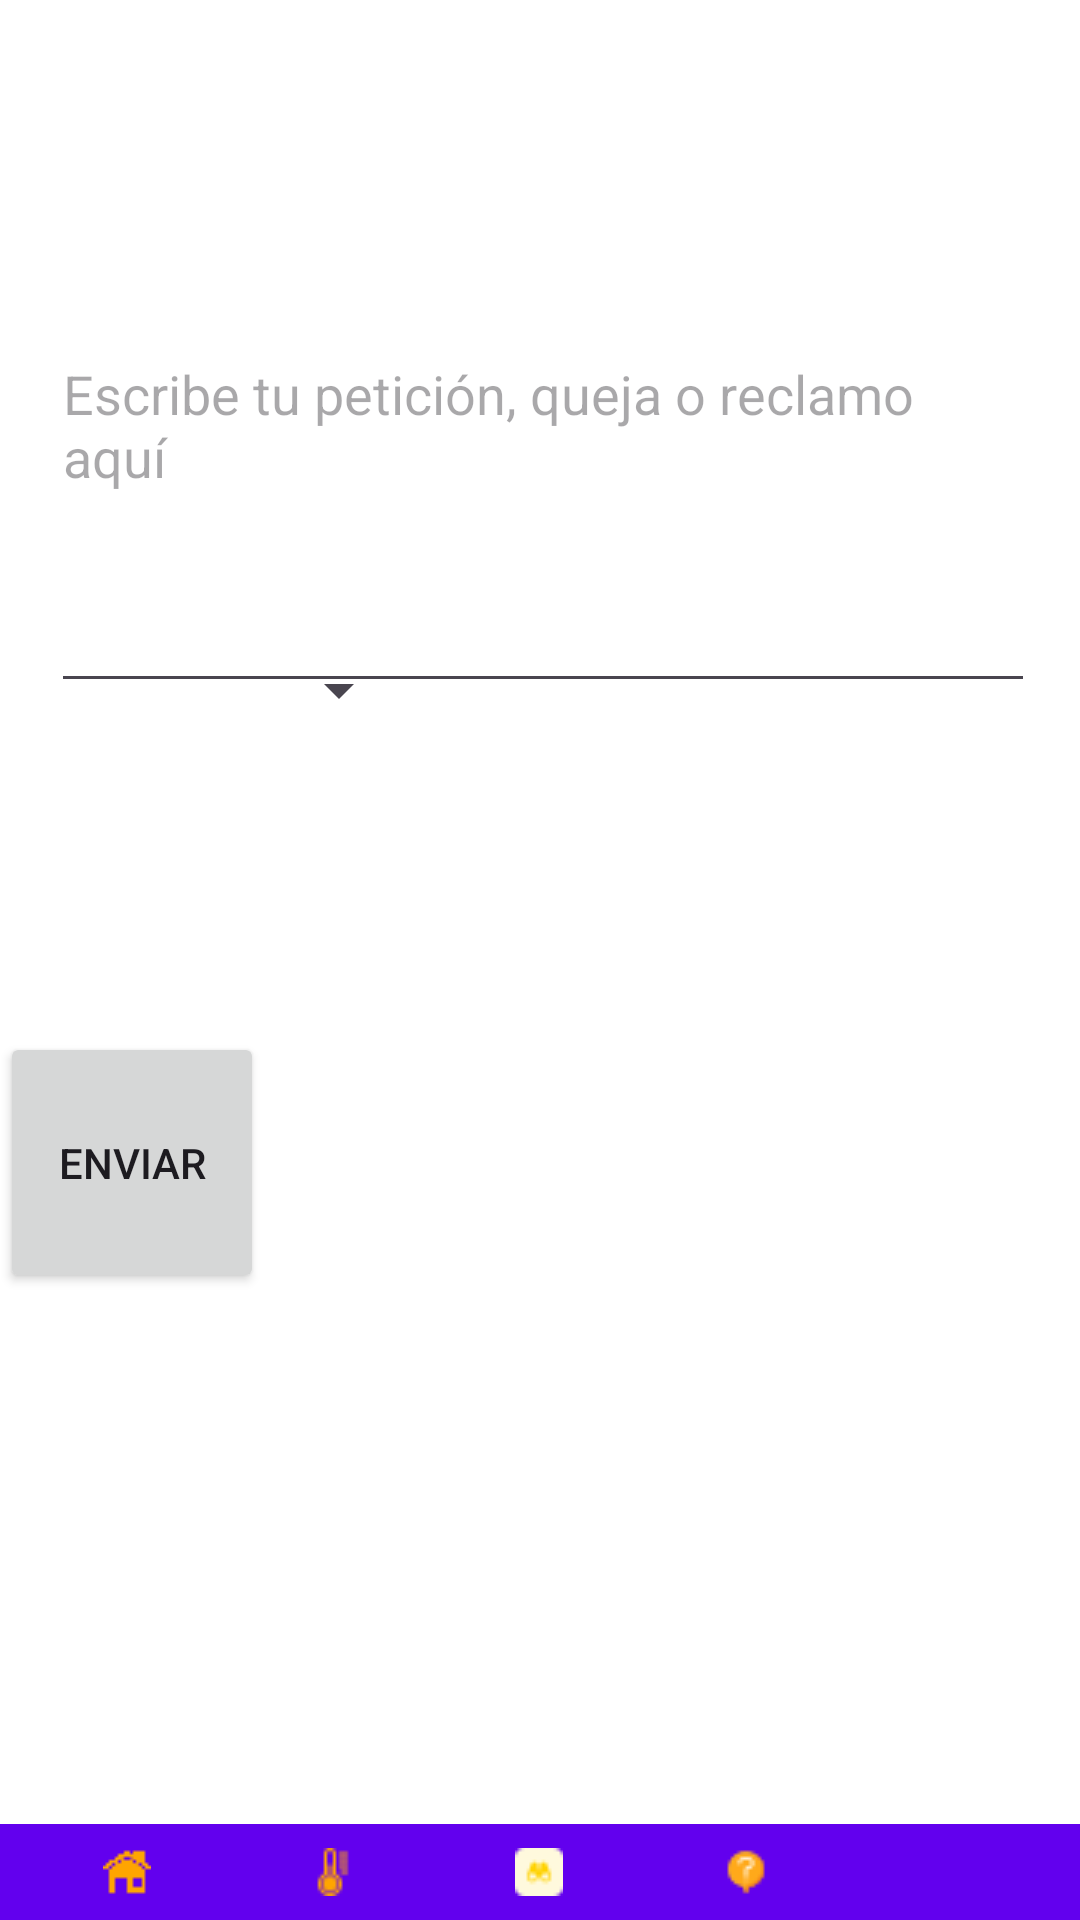

Point at icon controls on the screen. Image size 1080×1920, points as point (x, y).
binoculares: point (539, 1872)
home: point (127, 1872)
pregunta: point (746, 1872)
